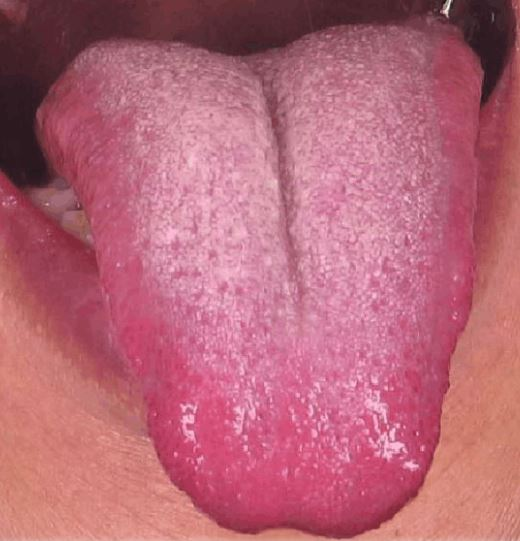baitaishe: (34, 17, 483, 537)
hongshe: (34, 17, 483, 537)
liewenshe: (258, 72, 308, 299)
xinfeiao: (243, 510, 327, 539)
